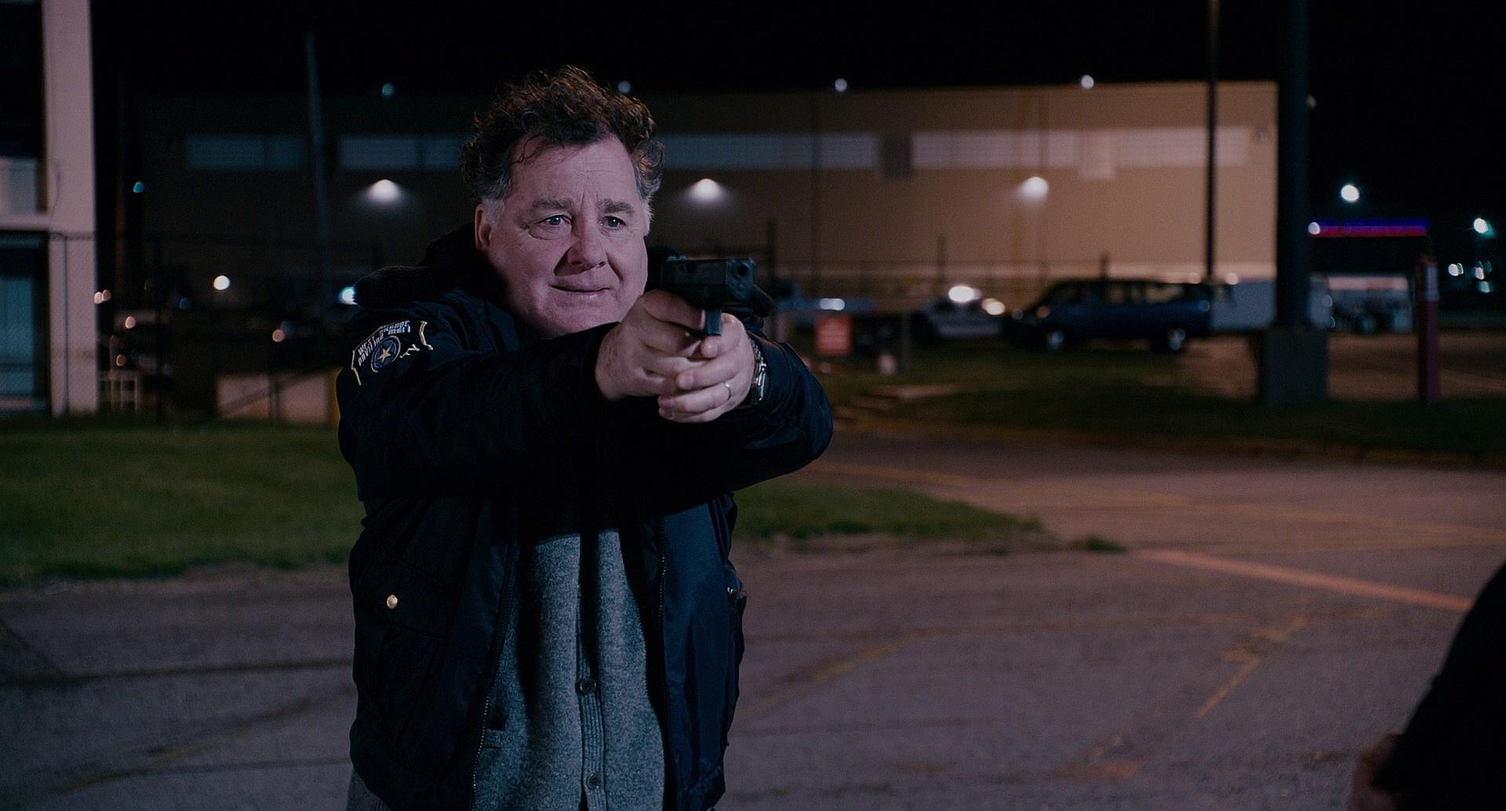gun: (649, 240, 761, 411)
